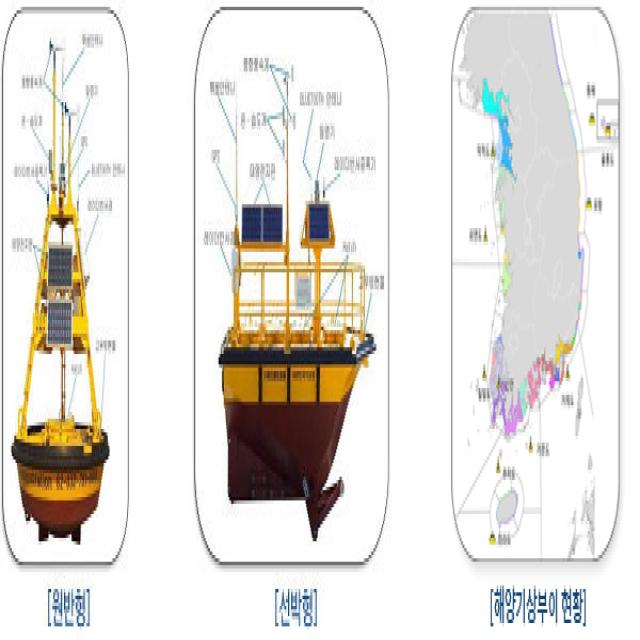buoy: (208, 50, 383, 551), (13, 37, 119, 541)
